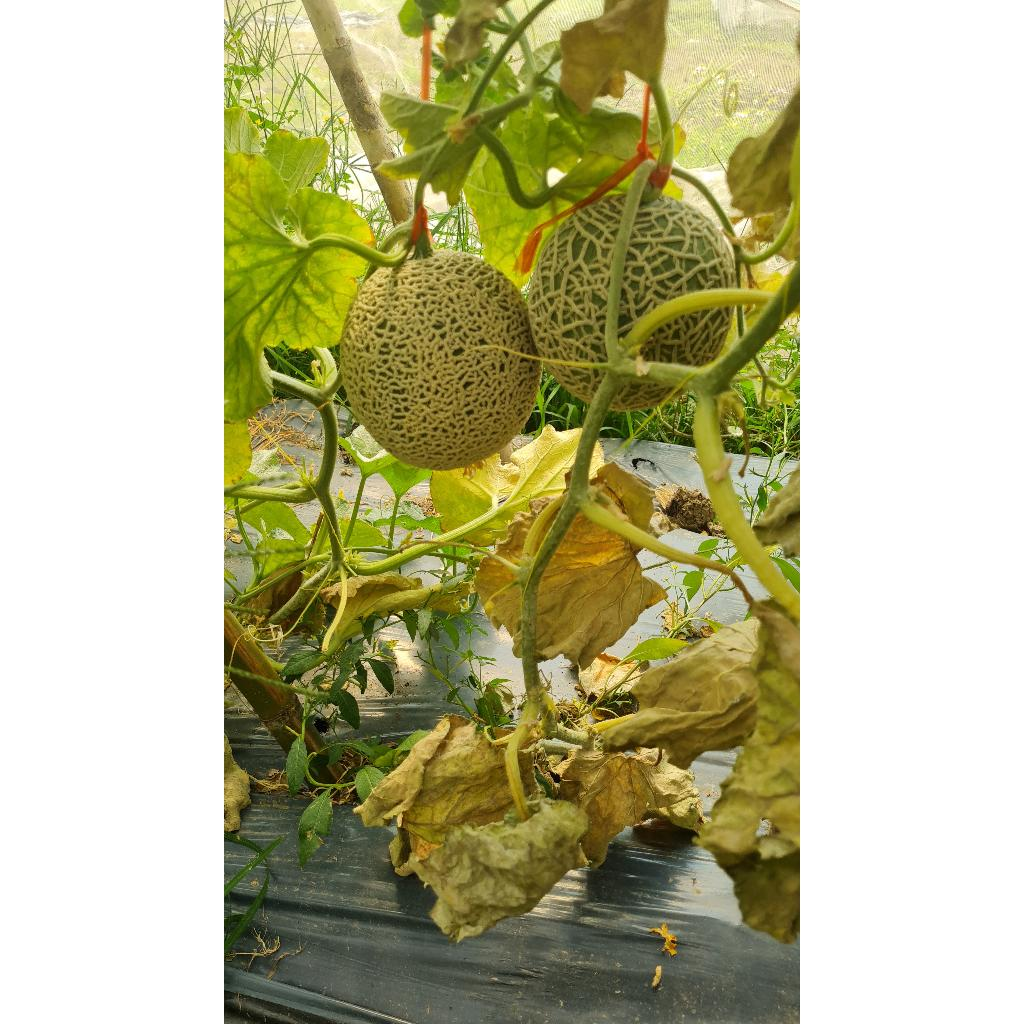melon: (340, 250, 540, 470), (618, 196, 736, 338), (528, 194, 626, 362), (640, 306, 734, 366), (546, 364, 604, 402), (612, 382, 668, 412)
